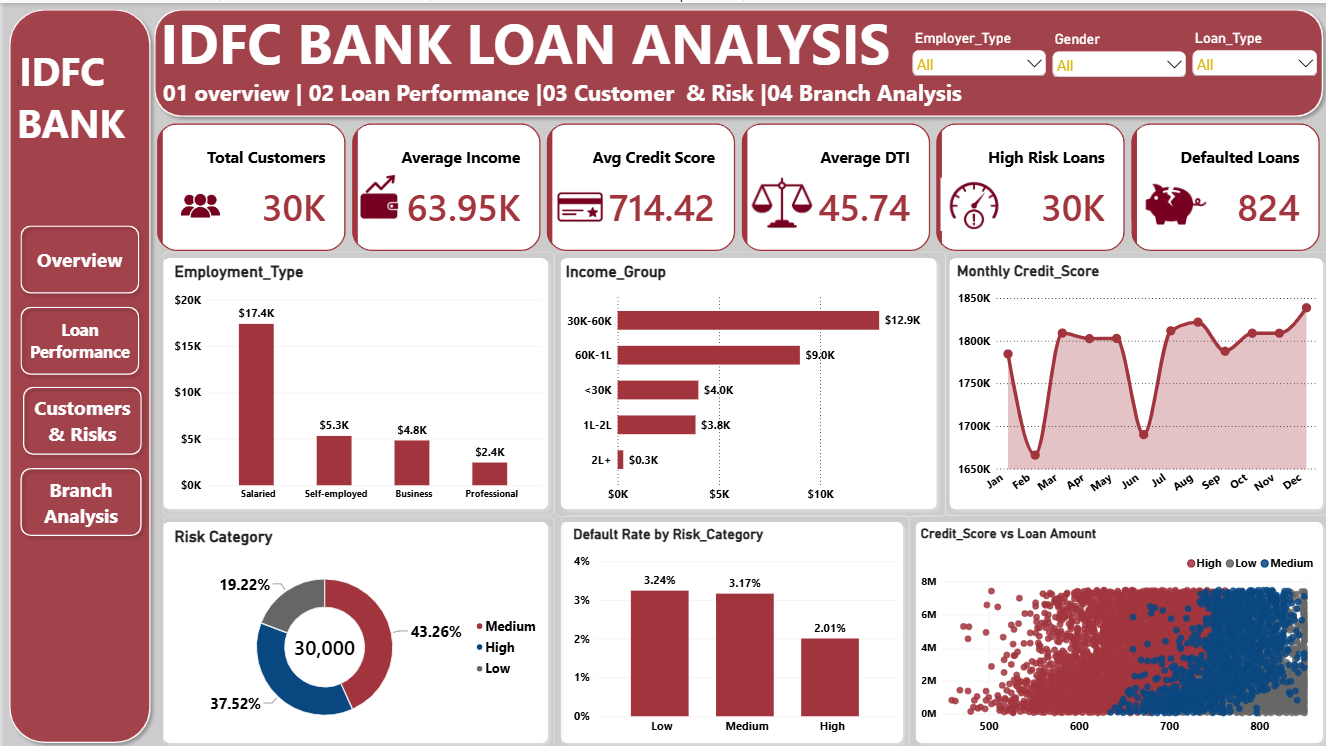

The dashboard page shown, as its layout file describes it:
{"tool":"powerbi","page":{"name":"Customer & Risk","canvas":[1920,1080],"ordinal":2},"visuals":[{"type":"shape","box":[209.9,0,1710.1,173.7],"z":0},{"type":"shape","box":[0,0,222.6,1080.4],"z":1000},{"type":"textbox","box":[228,1.8,1388,137.5],"z":2000},{"type":"cardVisual","fields":{"Data":["Loan_Clean Data.Total Customers","Loan_Clean Data.Average Income","Loan_Clean Data.Avg Credit Score","Loan_Clean Data.Avg DTI","Loan_Clean Data.High Risk Loans","Loan_Clean Data.Defaulted Loans"]},"box":[222.6,173.7,1684.8,186.4],"z":3000},{"type":"shape","box":[222.6,360.1,575.5,381.8],"z":4000},{"type":"shape","box":[798.1,360.1,562.8,381.8],"z":5000},{"type":"shape","box":[1360.9,360.1,559.2,381.8],"z":6000},{"type":"shape","box":[222.6,742,575.5,338.4],"z":7000},{"type":"shape","box":[798.1,742,513.9,338.4],"z":8000},{"type":"donutChart","title":"Risk Category","fields":{"Category":["Loan_Clean Data.Risk_Category"],"Y":["CountNonNull(Loan_Clean Data.Loan_ID)"]},"box":[231.6,743.8,566.4,336.6],"z":9000},{"type":"textbox","box":[231.7,106.7,1426,59.7],"z":10000},{"type":"slicer","fields":{"Values":["Loan_Clean Data.Employer_Type"]},"box":[1312,38,202.7,67],"z":11000},{"type":"slicer","fields":{"Values":["Loan_Clean Data.Gender"]},"box":[1514.7,39.8,202.7,67],"z":12000},{"type":"slicer","fields":{"Values":["Loan_Clean Data.Loan_Type"]},"box":[1717.4,38,190,67],"z":13000},{"type":"columnChart","title":" Employment_Type","fields":{"Category":["Loan_Clean Data.Employment_Type"],"Y":["Loan_Clean Data.Total Applications"]},"box":[231.6,360.1,566.4,381.8],"z":14000},{"type":"clusteredBarChart","title":" Income_Group","fields":{"Category":["Loan_Clean Data.Income_Group"],"Y":["Loan_Clean Data.Total Applications"]},"box":[798.1,360.1,566.4,383.6],"z":15000},{"type":"shape","box":[1312,742,608,338.4],"z":16000},{"type":"clusteredColumnChart","fields":{"Category":["Loan_Clean Data.Risk_Category"],"Y":["Loan_Clean Data.Default Rate"]},"box":[808.9,742,503.1,338.4],"z":17000},{"type":"scatterChart","title":" Credit_Score vs Loan Amount","fields":{"Series":["Loan_Clean Data.Risk_Category"],"X":["Loan_Clean Data.Credit_Score"],"Y":["Loan_Clean Data.Loan_Amount"]},"box":[1312,742,608,338.4],"z":18000},{"type":"lineChart","title":"Monthly Credit_Score","fields":{"Category":["Loan_Clean Data.Application month"],"Y":["Sum(Loan_Clean Data.Credit_Score)"]},"box":[1364.5,360.1,555.6,381.8],"z":19000},{"type":"actionButton","box":[16.7,313.3,190,116.7],"z":20000},{"type":"actionButton","box":[16.7,430,190,116.7],"z":21000},{"type":"actionButton","box":[20,546.7,190,116.7],"z":22000},{"type":"actionButton","box":[16.7,663.3,193.3,116.7],"z":23000},{"type":"image","box":[244.3,155.6,90.5,275.1],"z":24000},{"type":"image","box":[515.8,139.3,70.6,275.1],"z":25000},{"type":"image","box":[798.1,155.6,79.6,275.1],"z":26000},{"type":"image","box":[1082.2,153.8,94.1,275.1],"z":27000},{"type":"image","box":[1357.2,153.8,114,275.1],"z":28000},{"type":"image","box":[1645,153.8,105,275.1],"z":29000},{"type":"textbox","box":[19.9,59.7,211.7,217.2],"z":29001}]}

Visuals, with their boxes in screenshot pixels (x1, y1, x2, y2), scaled from the page's 1920x1080 canvas onto the 1326x746 screenshot:
shape: x1=145, y1=0, x2=1325, y2=120
shape: x1=0, y1=0, x2=154, y2=745
textbox: x1=157, y1=1, x2=1116, y2=96
cardVisual - Loan_Clean Data.Total Customers x Loan_Clean Data.Average Income: x1=154, y1=120, x2=1317, y2=249
shape: x1=154, y1=249, x2=551, y2=512
shape: x1=551, y1=249, x2=940, y2=512
shape: x1=940, y1=249, x2=1325, y2=512
shape: x1=154, y1=513, x2=551, y2=745
shape: x1=551, y1=513, x2=906, y2=745
"Risk Category" donutChart: x1=160, y1=514, x2=551, y2=745
textbox: x1=160, y1=74, x2=1145, y2=115
slicer - Loan_Clean Data.Employer_Type: x1=906, y1=26, x2=1046, y2=73
slicer - Loan_Clean Data.Gender: x1=1046, y1=27, x2=1186, y2=74
slicer - Loan_Clean Data.Loan_Type: x1=1186, y1=26, x2=1317, y2=73
" Employment_Type" columnChart: x1=160, y1=249, x2=551, y2=512
" Income_Group" clusteredBarChart: x1=551, y1=249, x2=942, y2=514
shape: x1=906, y1=513, x2=1325, y2=745
clusteredColumnChart - Loan_Clean Data.Risk_Category x Loan_Clean Data.Default Rate: x1=559, y1=513, x2=906, y2=745
" Credit_Score vs Loan Amount" scatterChart: x1=906, y1=513, x2=1325, y2=745
"Monthly Credit_Score" lineChart: x1=942, y1=249, x2=1325, y2=512
actionButton: x1=12, y1=216, x2=143, y2=297
actionButton: x1=12, y1=297, x2=143, y2=378
actionButton: x1=14, y1=378, x2=145, y2=458
actionButton: x1=12, y1=458, x2=145, y2=539
image: x1=169, y1=107, x2=231, y2=298
image: x1=356, y1=96, x2=405, y2=286
image: x1=551, y1=107, x2=606, y2=298
image: x1=747, y1=106, x2=812, y2=296
image: x1=937, y1=106, x2=1016, y2=296
image: x1=1136, y1=106, x2=1209, y2=296
textbox: x1=14, y1=41, x2=160, y2=191
